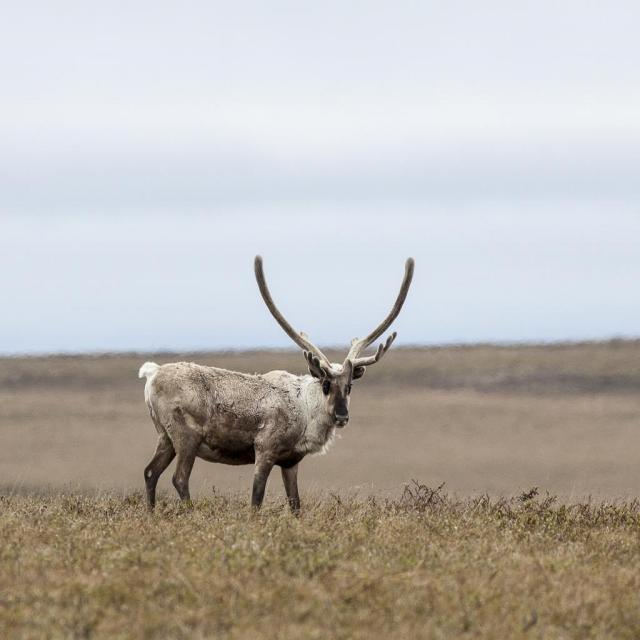Deer: (142, 257, 414, 511)
